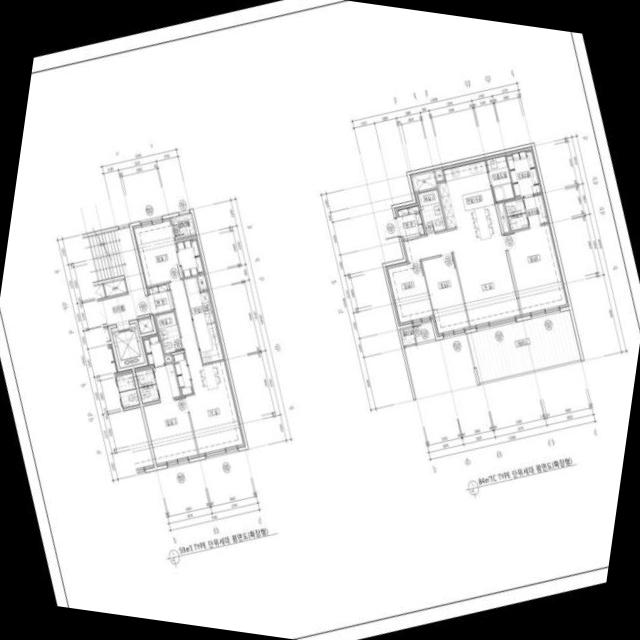background: (0, 0, 640, 640)
space_bedroom: (505, 225, 567, 316), (422, 254, 470, 336), (144, 397, 198, 466), (133, 218, 183, 286), (388, 261, 434, 325)
space_dressroom: (176, 236, 205, 278), (153, 363, 180, 403), (142, 334, 165, 367)
space_elevator: (111, 323, 145, 368)
space_elevator_hall: (97, 227, 150, 327)
space_front: (397, 205, 425, 239), (147, 283, 174, 314)
space_kitchen: (438, 161, 502, 241), (184, 277, 225, 364)
space_living_room: (169, 280, 245, 456), (404, 224, 521, 329)
space_other: (507, 150, 541, 198), (487, 156, 515, 202), (173, 353, 193, 396), (523, 195, 548, 227), (412, 172, 437, 192), (104, 279, 127, 297), (498, 203, 510, 233), (138, 318, 154, 334), (94, 284, 106, 300), (198, 275, 209, 290), (435, 170, 444, 181), (165, 355, 173, 363)
space_outdoor_room: (172, 213, 196, 238), (400, 327, 416, 346)
space_staircase: (83, 230, 127, 282)
space_toilet: (417, 189, 447, 234), (155, 311, 183, 354), (505, 199, 529, 231), (139, 384, 160, 404), (136, 368, 156, 388)
